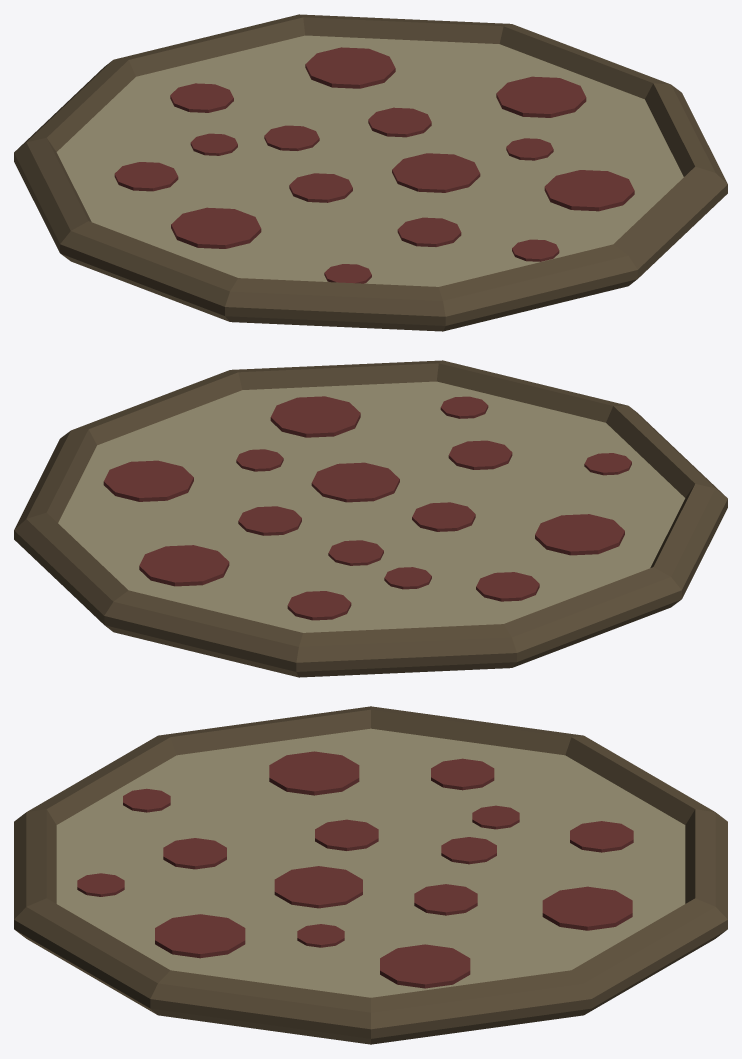
File: Low Poly Pizza.fbx
The picture shows the model from 3 angles, top to bottom: view 1: azimuth 30°, elevation 25°; view 2: azimuth 150°, elevation 25°; view 3: azimuth 270°, elevation 25°; orthographic projection. The views are drawn at different scales.
Parts seen in each view (by area): view 1: Pizza_Base1; view 2: Pizza_Base1; view 3: Pizza_Base1.
Part boxes in pixels (<box>): Pizza_Base1: <box>14,14,727,331</box>; Pizza_Base1: <box>14,360,727,677</box>; Pizza_Base1: <box>14,706,727,1044</box>.
Bounding box in the file's own units: 2 × 0.111 × 1.9.
